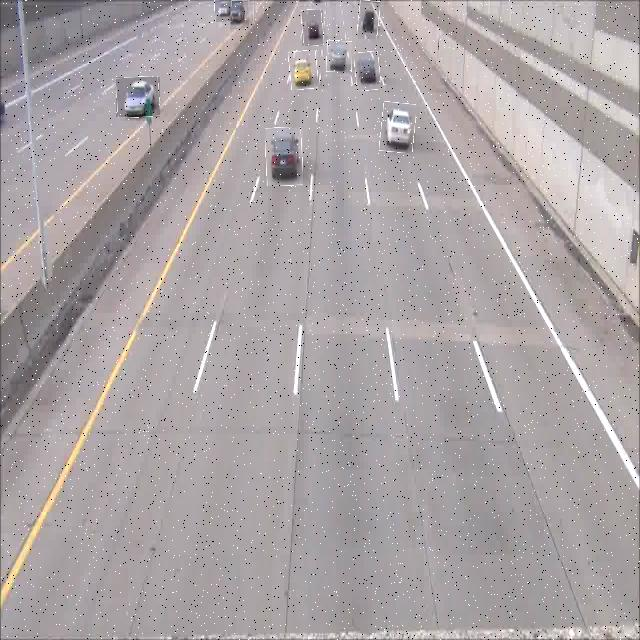Car: (266, 128, 303, 186), (380, 102, 415, 153), (116, 77, 160, 117), (289, 50, 318, 90), (355, 52, 381, 90), (358, 0, 379, 39), (327, 41, 352, 72), (302, 10, 323, 46), (229, 0, 249, 29), (215, 0, 232, 22)
